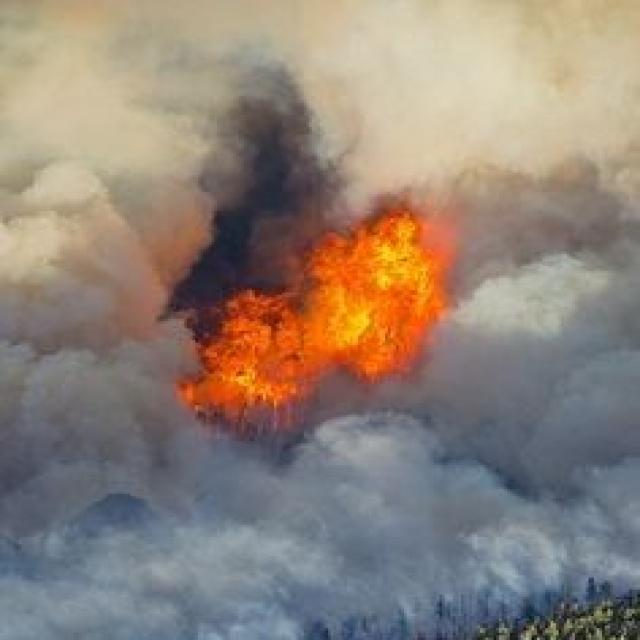Fire: (194, 218, 438, 430)
Smoke: (33, 328, 634, 620), (54, 91, 344, 293)
